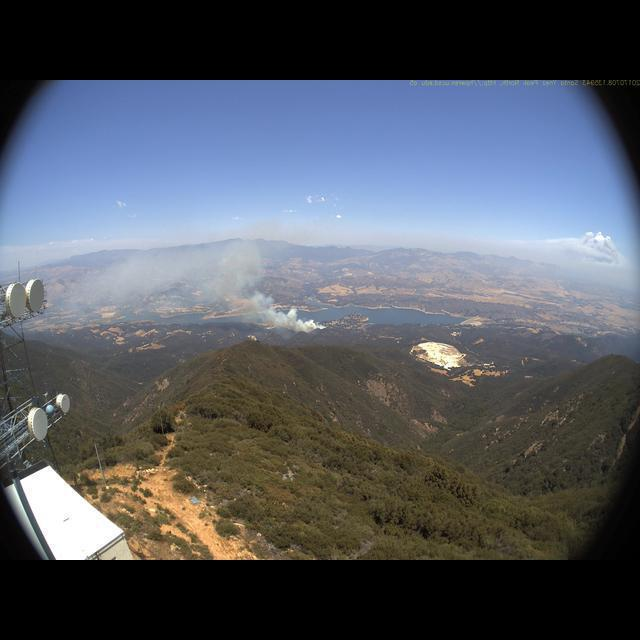Smoke: (137, 239, 328, 333)
